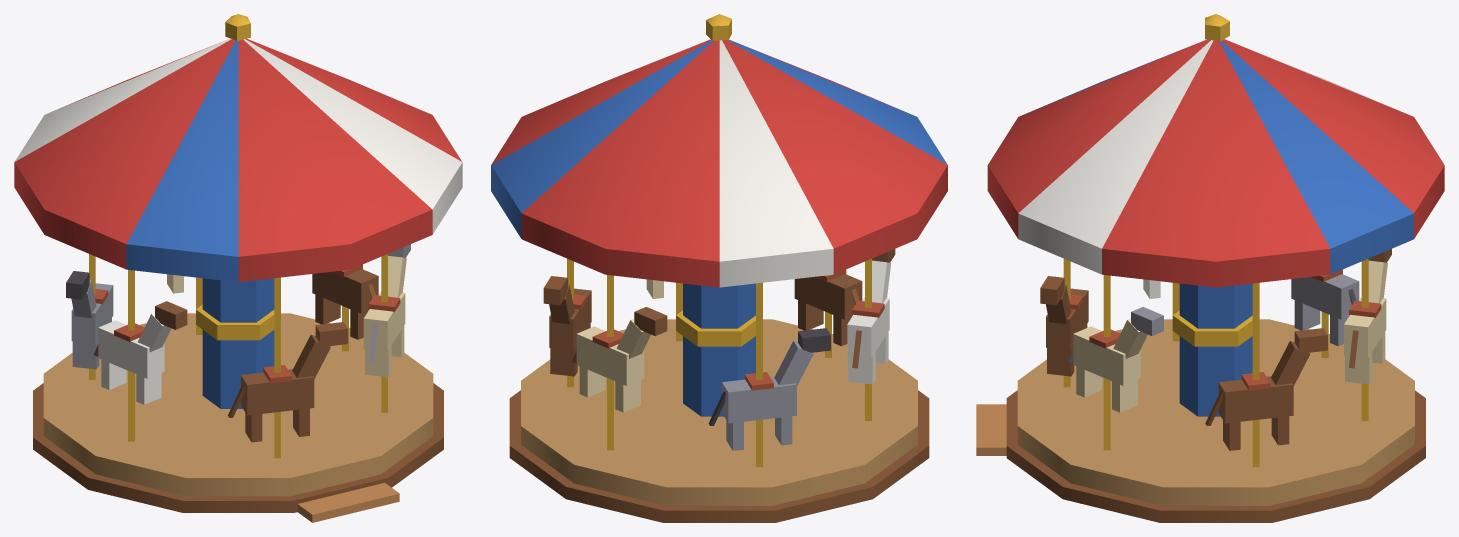
The model's file is carousel.glb.
The picture shows the model from 3 angles, left to right: view 1: azimuth 30°, elevation 25°; view 2: azimuth 150°, elevation 25°; view 3: azimuth 270°, elevation 25°; orthographic projection.
Parts seen in each view (by area): view 1: rotor, carousel; view 2: rotor, carousel; view 3: rotor, carousel.
Part boxes in pixels (<box>): rotor: <box>14,14,462,496</box>; carousel: <box>33,383,443,522</box>; rotor: <box>491,14,947,505</box>; carousel: <box>509,390,929,522</box>; rotor: <box>987,14,1444,505</box>; carousel: <box>976,390,1425,522</box>.
Bounding box in the file's own units: 4 × 4.06 × 4.1.
1 material, 1 textured.
